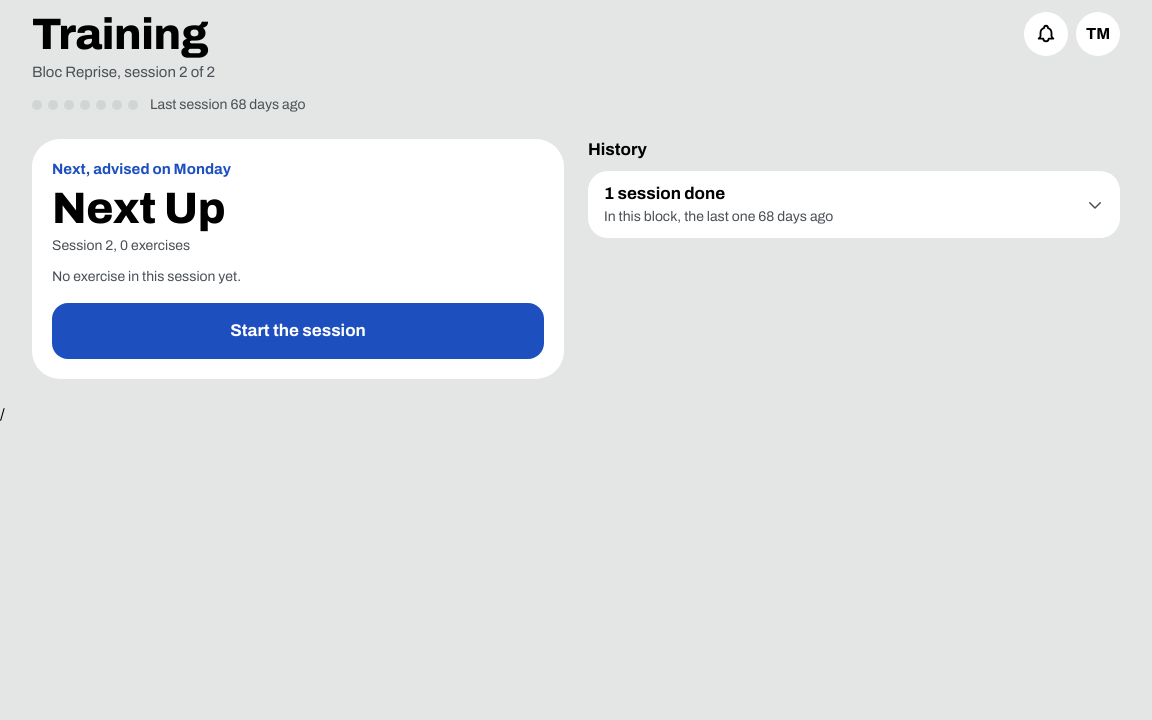
Scenario: StudentTraining › leads from a finished session of this block to its page
Click the button "1 session done In this block, the last one 68 days ago" at (665,193), box [604,171,1104,238]
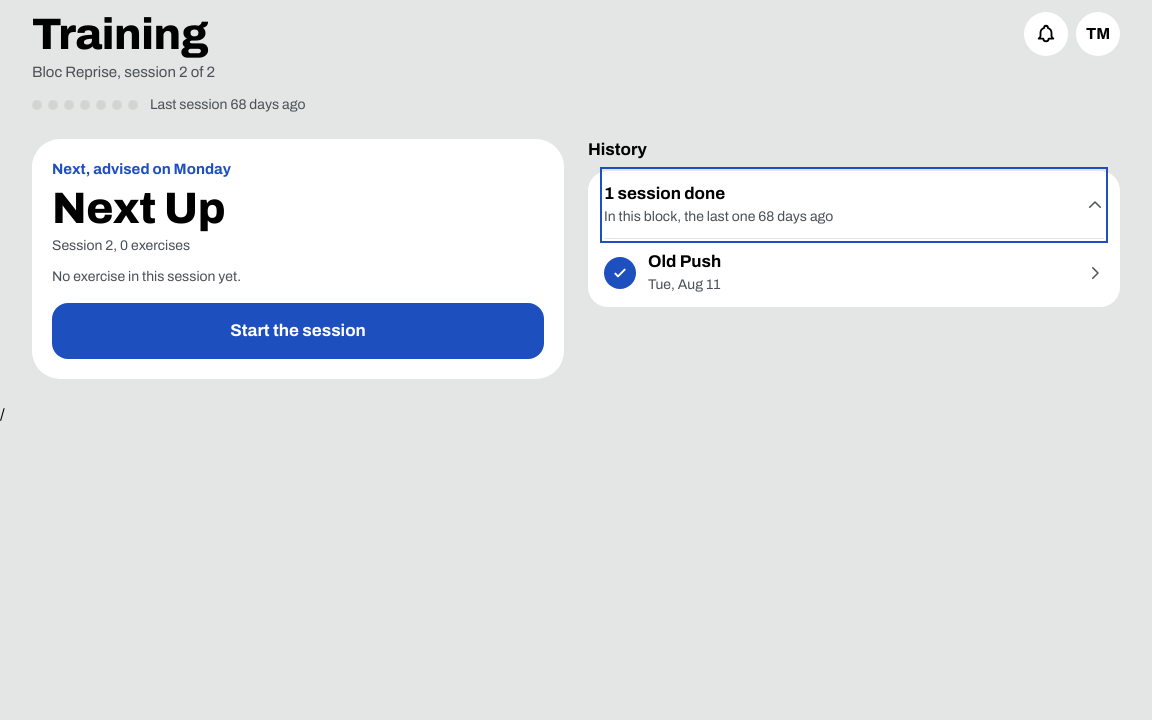
Click the link named "Old Push," at (620,273), box [604,252,1104,292]
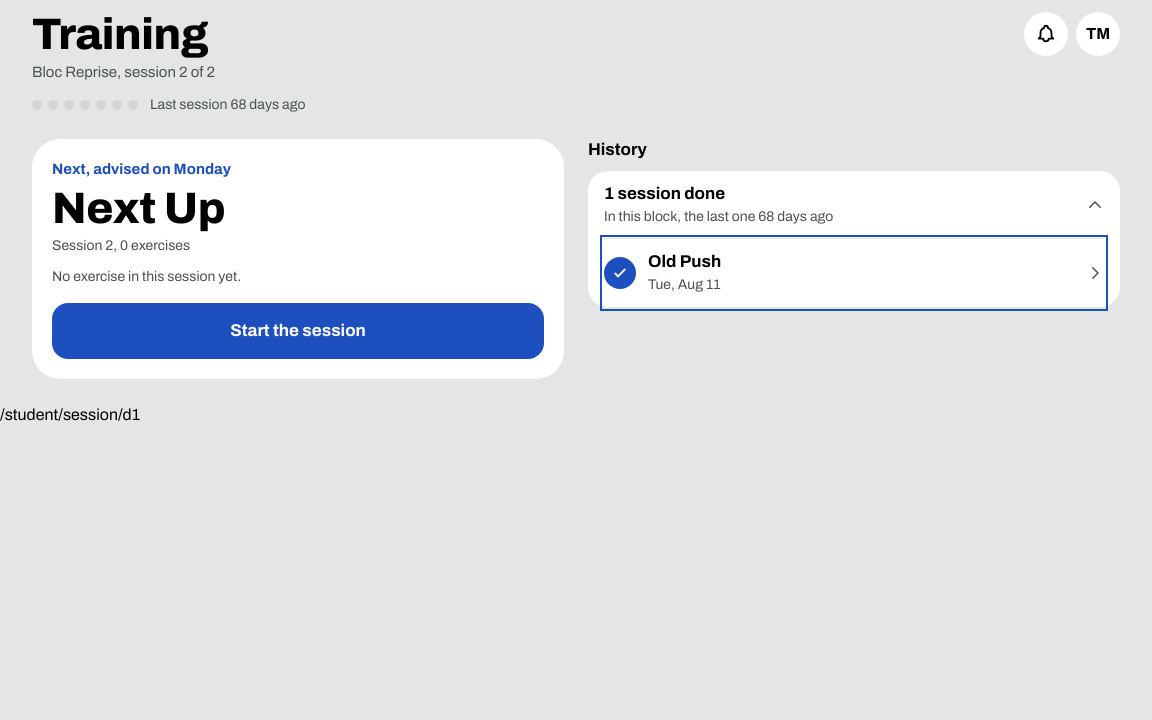
expect the text with test id "location" reads "/student/session/d1": met, box [0,406,140,423]
